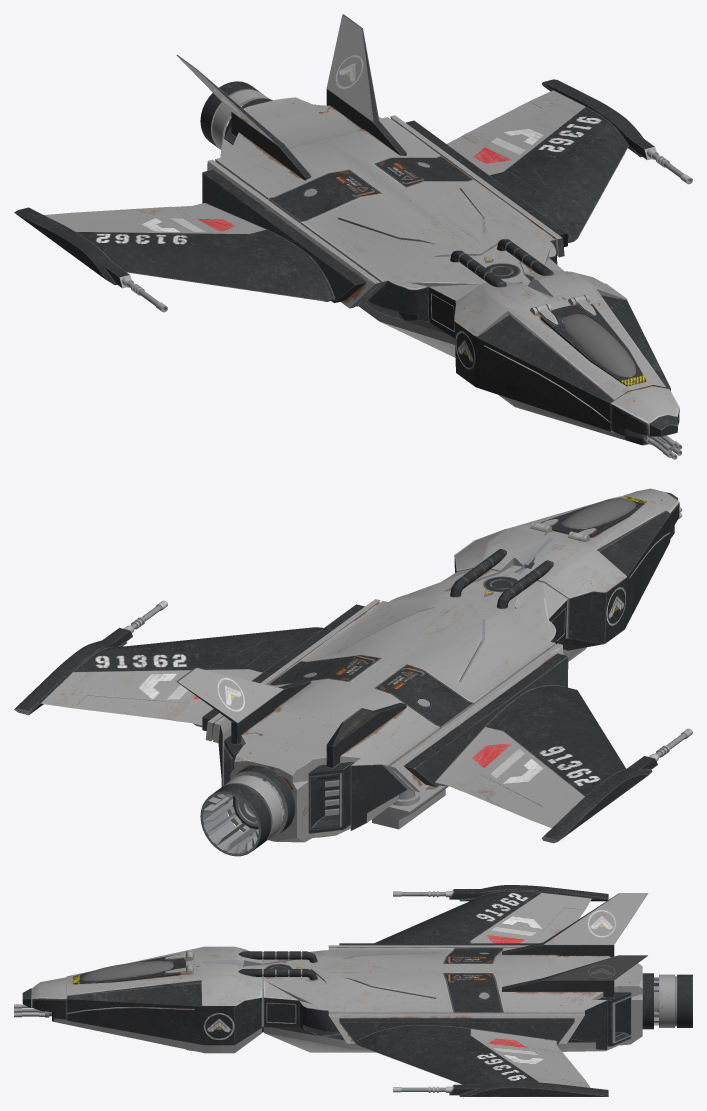
Rendered from spaceship.glb.
The picture shows the model from 3 angles, top to bottom: view 1: azimuth 30°, elevation 25°; view 2: azimuth 150°, elevation 25°; view 3: azimuth 270°, elevation 25°; orthographic projection. The views are drawn at different scales.
Parts seen in each view (by area): view 1: Cube.006; view 2: Cube.006, Cube.007; view 3: Cube.006.
Boxes of the visible parts, x1,y1,x2,y2 form: Cube.006: [14, 14, 692, 459]; Cube.006: [14, 488, 692, 856]; Cube.007: [372, 785, 448, 829]; Cube.006: [14, 885, 692, 1096].
Size of the model in its own units: 21.24 by 5.98 by 30.07.
Materials: 1 (1 with a texture image).
